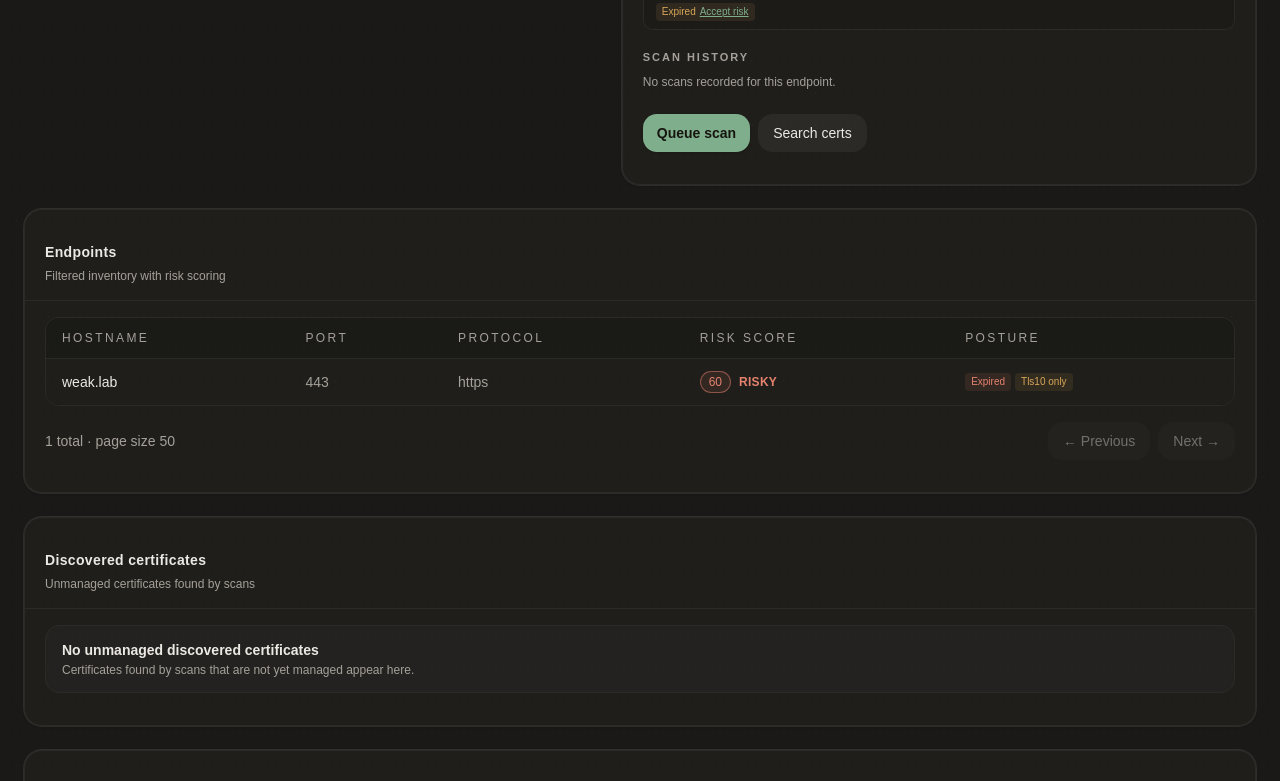
accept-risk dialog › rejects expiry over 365 days
(page scrolled)
Click the button "weak.lab" at coordinates (90, 382), box [62, 372, 117, 392]
(page scrolled)
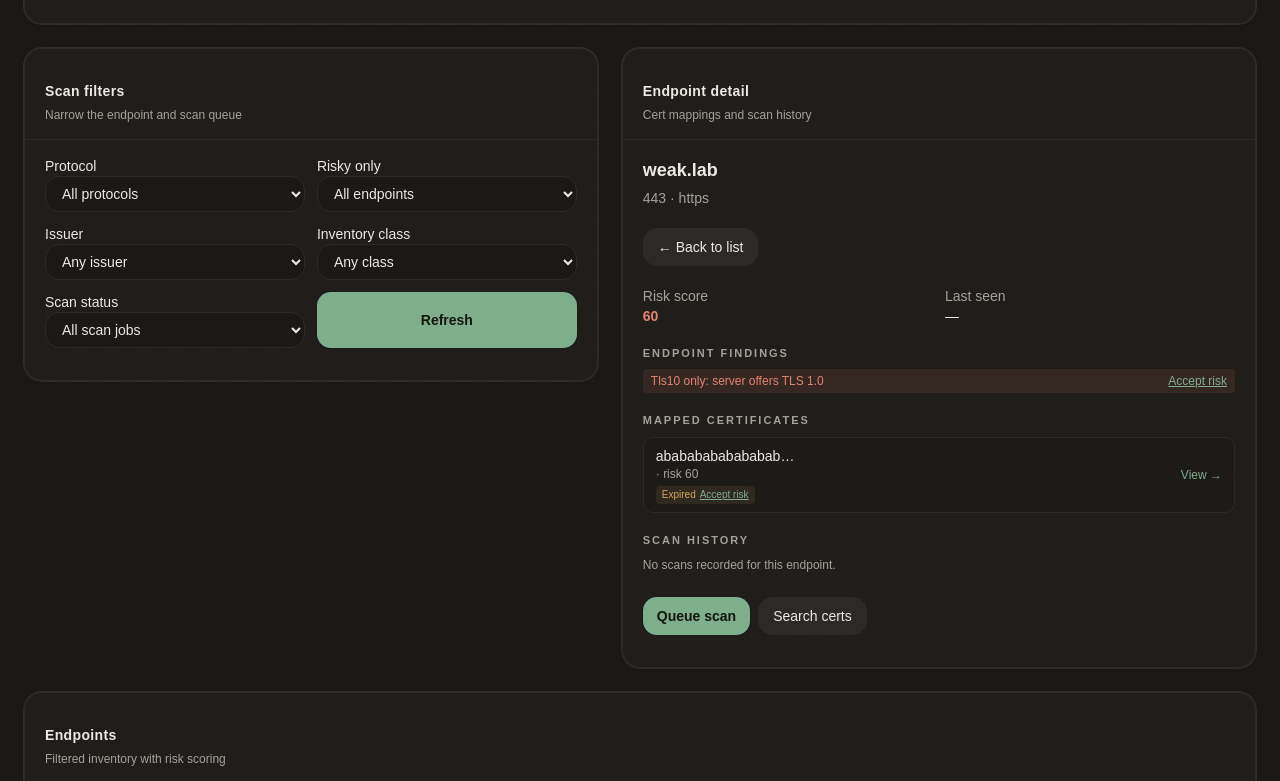
Click the button "Accept risk" in the row of "Tls10 only: server offers TLS 1.0" at coordinates (1198, 381), box [1168, 373, 1227, 389]
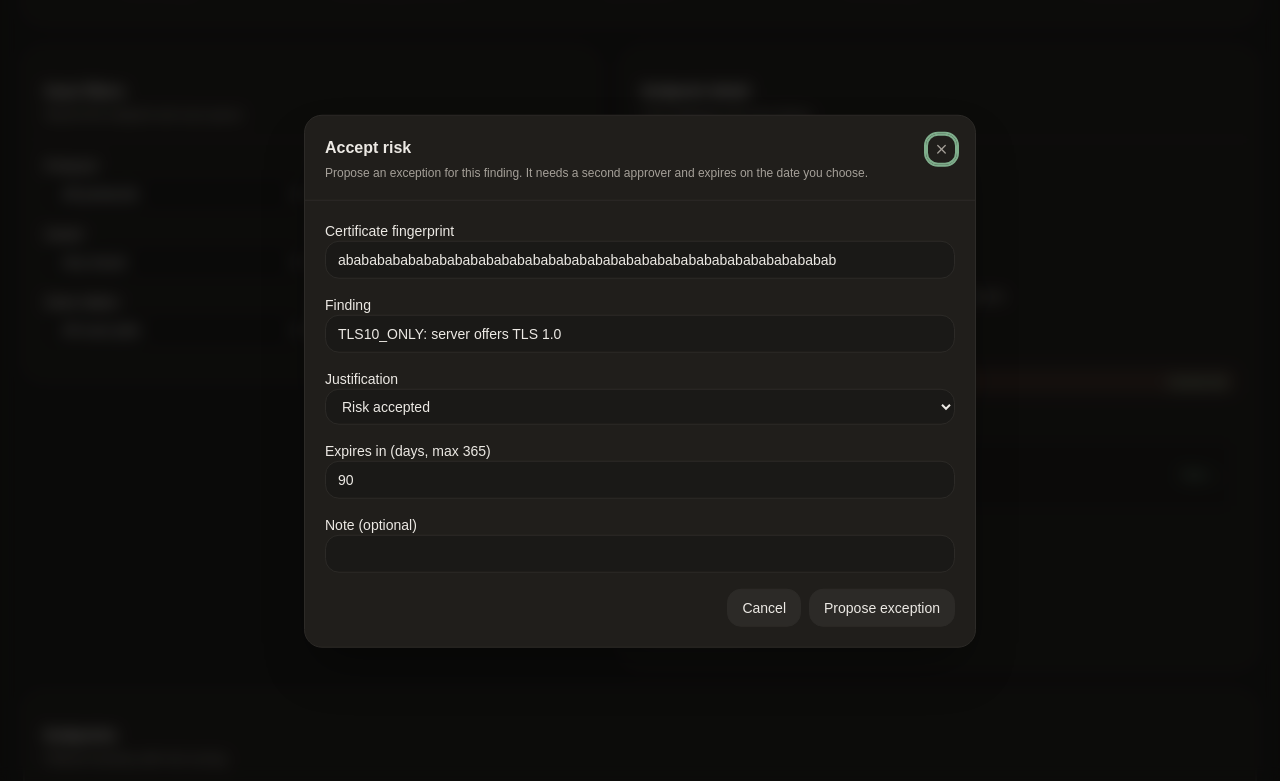
Replace the text in the number field named "Expiry days" with "366" at coordinates (640, 479), box [325, 460, 955, 498]
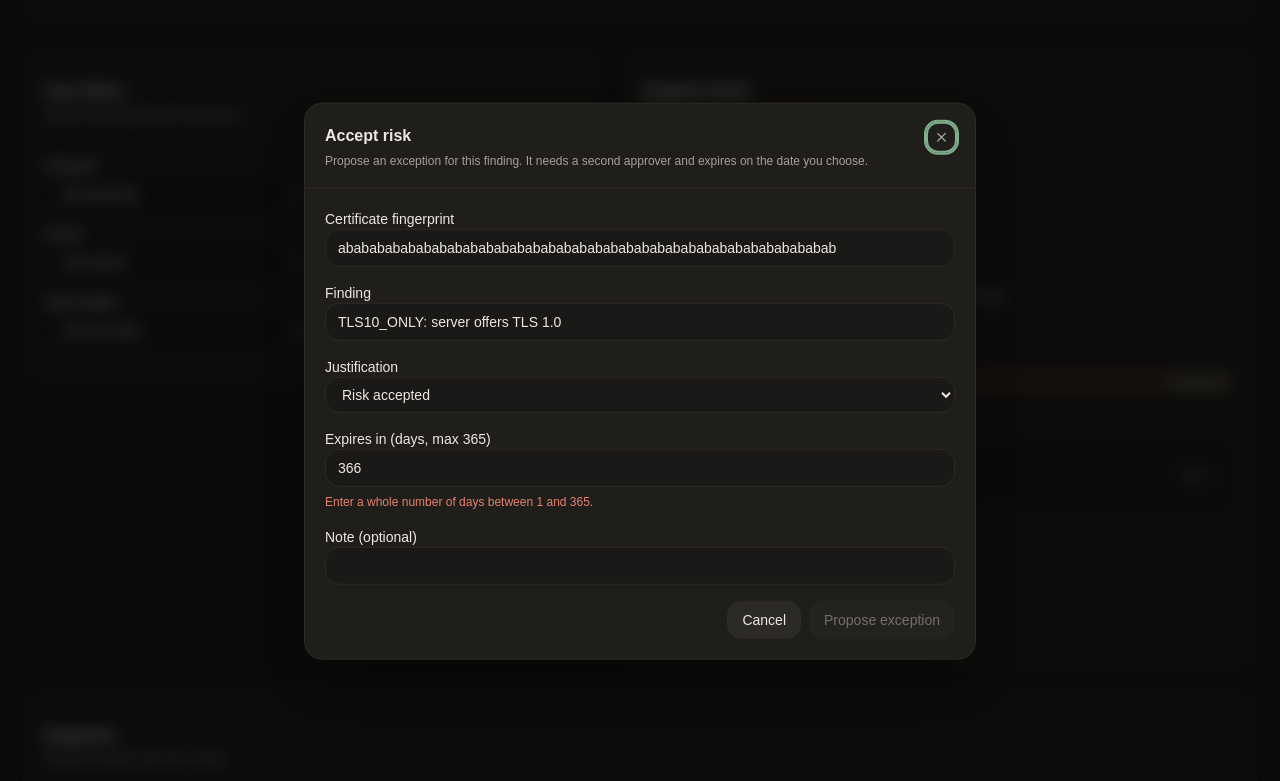
Result: the text "Enter a whole number of days between 1 and 365." is shown at [325, 494, 593, 508]
Result: the button "Propose exception" is disabled at [809, 600, 955, 638]
Replace the text in the number field named "Expiry days" with "365" at coordinates (640, 467), box [325, 448, 955, 486]
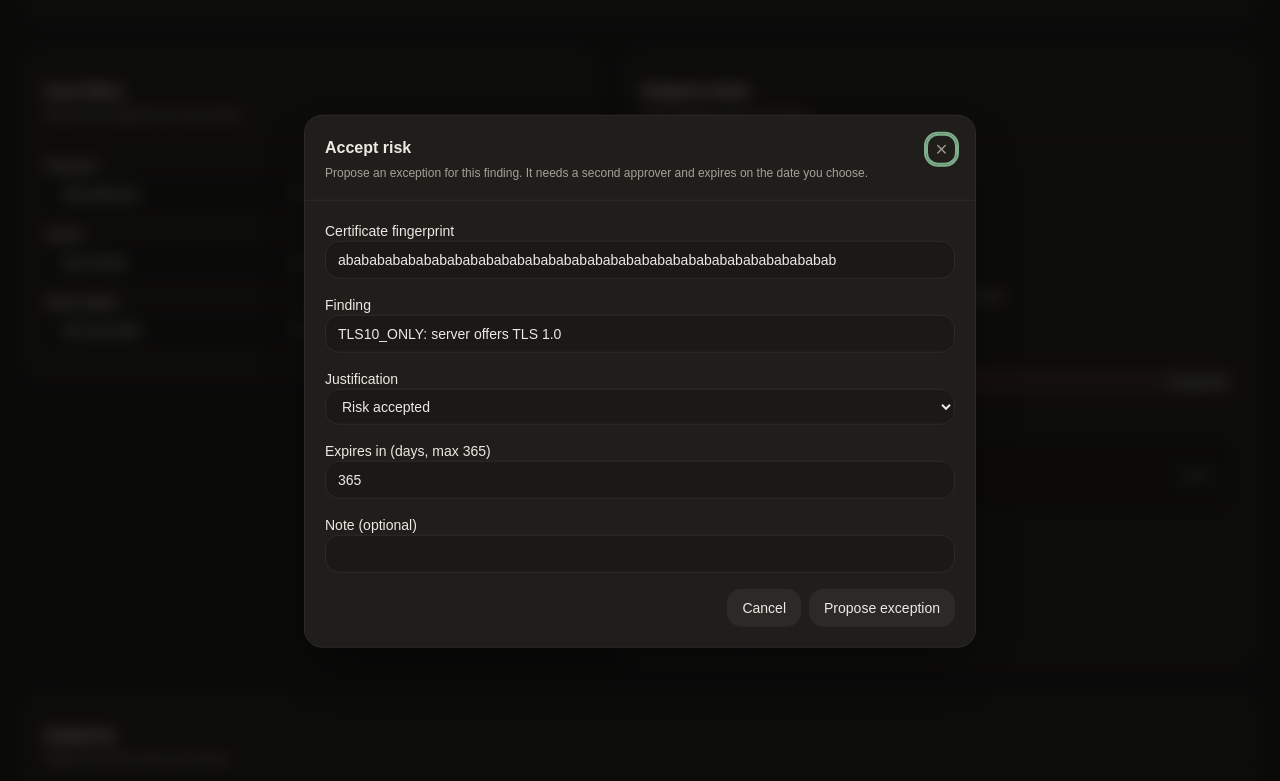
Result: the button "Propose exception" is enabled at [809, 588, 955, 626]
Replace the text in the number field named "Expiry days" with "0" at coordinates (640, 479), box [325, 460, 955, 498]
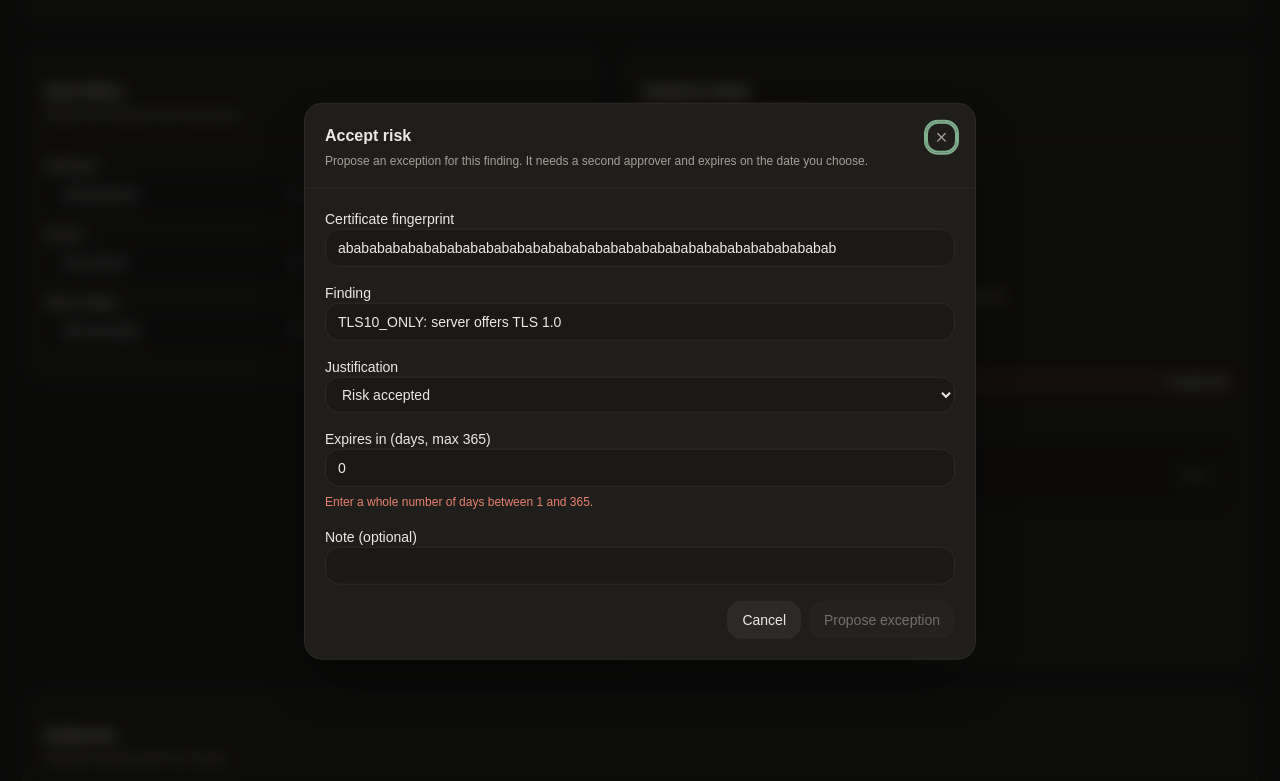
Result: the button "Propose exception" is disabled at [809, 600, 955, 638]
